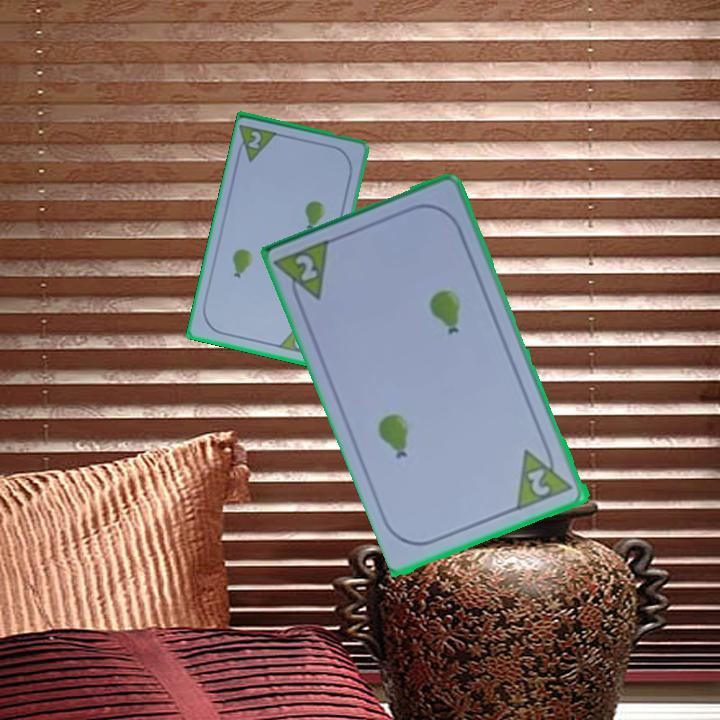2p: (273, 235, 336, 312), (513, 439, 577, 513), (245, 127, 264, 152)
